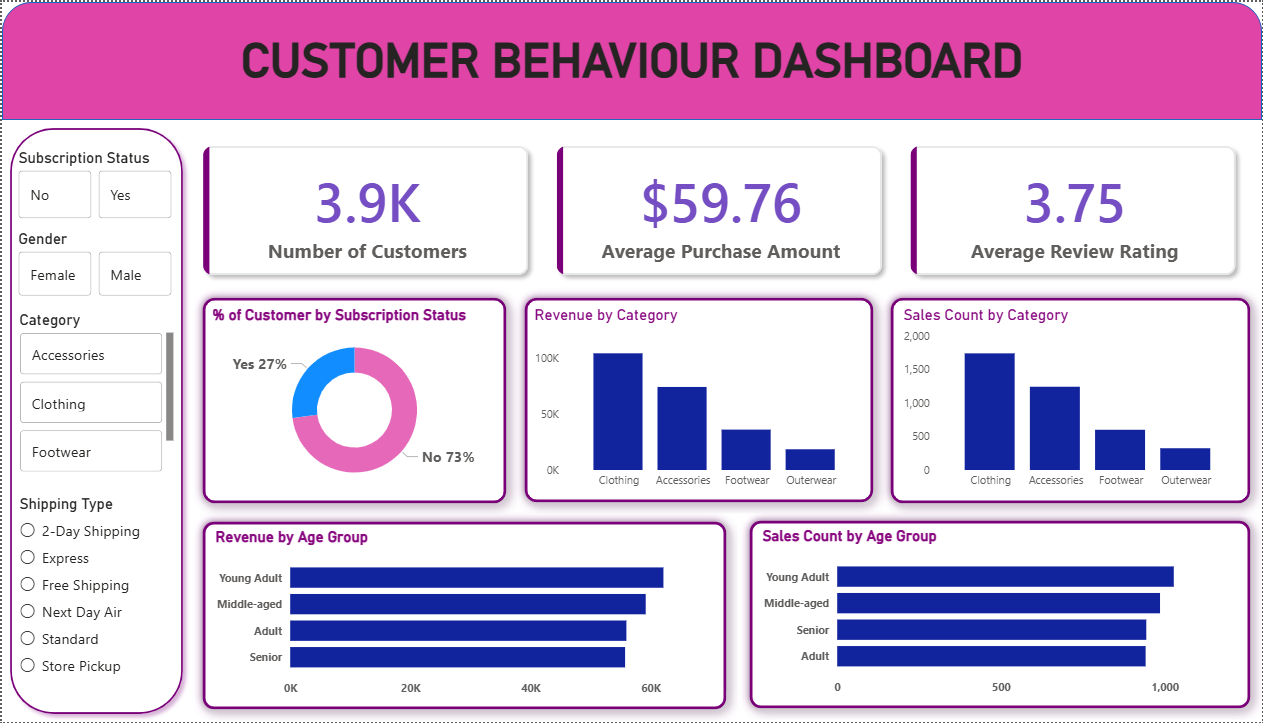

What the dashboard file says about the page in this screenshot:
{"tool":"powerbi","page":{"name":"Page 1","canvas":[1400,800],"ordinal":0},"visuals":[{"type":"cardVisual","fields":{"Data":["customer_trend customer_processed.Number of Customers","customer_trend customer_processed.Average Purchase Amount","customer_trend customer_processed.Average Review Rating"]},"box":[194.4,131.1,1205.6,201.1],"z":0},{"type":"shape","box":[567.8,315.6,413.3,253.3],"z":0,"group":"g4"},{"type":"shape","box":[974.4,315.6,425.6,254.4],"z":0,"group":"g3"},{"type":"shape","box":[0,0,1400,131.1],"z":1000},{"type":"columnChart","title":"Revenue by Category","fields":{"Category":["customer_trend customer_processed.category"],"Y":["Sum(customer_trend customer_processed.purchase_amount)"]},"box":[586.7,337.8,374.4,212.2],"z":1000,"group":"g4"},{"type":"columnChart","title":"Sales Count by Category","fields":{"Y":["CountNonNull(customer_trend customer_processed.customer_id)"],"Category":["customer_trend customer_processed.category"]},"box":[996.6,337.8,382.2,212.2],"z":1000,"group":"g3"},{"type":"textbox","title":"CUSTOMER BEHAVIOUR DASHBOARD","box":[0,34.4,1400,61.1],"z":2000},{"type":"shape","box":[0,131.1,210,668.9],"z":3000,"group":"g6"},{"type":"shape","box":[210,315.6,363.3,254.4],"z":3000,"group":"g5"},{"type":"shape","box":[817.8,563.3,582.2,234.4],"z":3000,"group":"g2"},{"type":"group","id":"g1","title":"Group 3","box":[210,564.4,607.8,234.4],"z":3000},{"type":"shape","box":[210,564.4,607.8,234.4],"z":3000,"group":"g1"},{"type":"advancedSlicerVisual","fields":{"Values":["customer_trend customer_processed.subscription_status"]},"box":[13.3,163.3,180,82.2],"z":4000,"group":"g6"},{"type":"donutChart","title":"% of Customer by Subscription Status","fields":{"Category":["customer_trend customer_processed.subscription_status"],"Y":["customer_trend customer_processed.Number of Customers"]},"box":[228.9,337.8,325.6,212.2],"z":4000,"group":"g5"},{"type":"group","id":"g2","title":"Group 3","box":[817.8,563.3,582.2,234.4],"z":4000},{"type":"clusteredBarChart","title":"Sales Count by Age Group","fields":{"Category":["customer_trend customer_processed.age_group"],"Y":["CountNonNull(customer_trend customer_processed.purchase_amount)"]},"box":[840.3,582.9,545.6,196.7],"z":4000,"group":"g2"},{"type":"clusteredBarChart","title":"Revenue by Age Group","fields":{"Category":["customer_trend customer_processed.age_group"],"Y":["Sum(customer_trend customer_processed.purchase_amount)"]},"box":[232.2,583.9,571.1,196.7],"z":4000,"group":"g1"},{"type":"group","id":"g3","title":"Group 1","box":[974.4,315.6,425.6,254.4],"z":5000},{"type":"advancedSlicerVisual","fields":{"Values":["customer_trend customer_processed.gender"]},"box":[13.3,253.3,181.1,78.9],"z":6000,"group":"g6"},{"type":"group","id":"g4","title":"Group 2","box":[567.8,315.6,413.3,253.3],"z":6000},{"type":"group","id":"g5","title":"Group 4","box":[210,315.6,363.3,254.4],"z":7000},{"type":"advancedSlicerVisual","fields":{"Values":["customer_trend customer_processed.category"]},"box":[14.4,343.3,181.1,184.4],"z":7000,"group":"g6"},{"type":"group","id":"g6","title":"Group 5","box":[0,131.1,210,668.9],"z":8000},{"type":"listSlicer","fields":{"Values":["customer_trend customer_processed.shipping_type"]},"box":[14.4,547.8,181.1,220],"z":8000,"group":"g6"}]}

Visuals, with their boxes in screenshot pixels (x1, y1, x2, y2), scaled from the page's 1400x800 canvas onto the 1263x723 screenshot:
cardVisual - customer_trend customer_processed.Number of Customers x customer_trend customer_processed.Average Purchase Amount: detection(175, 118, 1262, 300)
shape: detection(512, 285, 885, 514)
shape: detection(879, 285, 1262, 515)
shape: detection(0, 0, 1262, 118)
"Revenue by Category" columnChart: detection(529, 305, 867, 497)
"Sales Count by Category" columnChart: detection(899, 305, 1244, 497)
"CUSTOMER BEHAVIOUR DASHBOARD" textbox: detection(0, 31, 1262, 86)
shape: detection(0, 118, 189, 722)
shape: detection(189, 285, 517, 515)
shape: detection(738, 509, 1262, 721)
"Group 3" group: detection(189, 510, 738, 722)
shape: detection(189, 510, 738, 722)
advancedSlicerVisual - customer_trend customer_processed.subscription_status: detection(12, 148, 174, 222)
"% of Customer by Subscription Status" donutChart: detection(207, 305, 500, 497)
"Group 3" group: detection(738, 509, 1262, 721)
"Sales Count by Age Group" clusteredBarChart: detection(758, 527, 1250, 705)
"Revenue by Age Group" clusteredBarChart: detection(209, 528, 725, 705)
"Group 1" group: detection(879, 285, 1262, 515)
advancedSlicerVisual - customer_trend customer_processed.gender: detection(12, 229, 175, 300)
"Group 2" group: detection(512, 285, 885, 514)
"Group 4" group: detection(189, 285, 517, 515)
advancedSlicerVisual - customer_trend customer_processed.category: detection(13, 310, 176, 477)
"Group 5" group: detection(0, 118, 189, 722)
listSlicer - customer_trend customer_processed.shipping_type: detection(13, 495, 176, 694)
